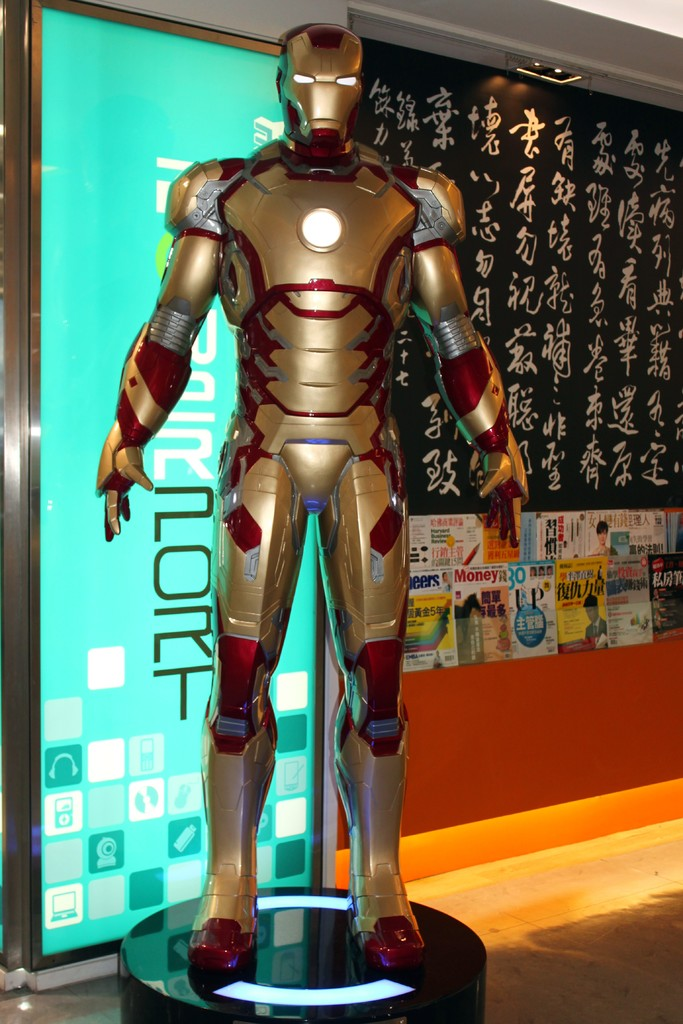Person: (92, 19, 533, 978)
